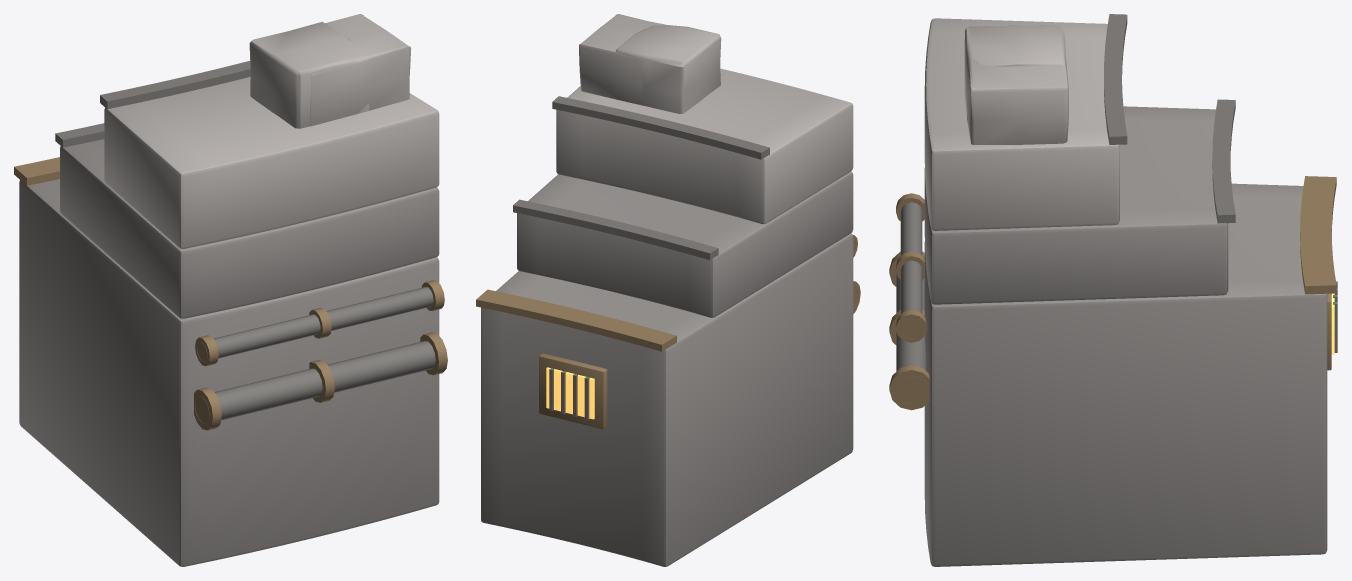
The model's file is SM_Area2_Wall_Hatch.glb.
3 renders of one model, left to right at view 1: azimuth 30°, elevation 25°; view 2: azimuth 150°, elevation 25°; view 3: azimuth 270°, elevation 25°, orthographic. The views are drawn at different scales.
Visible parts, largest first — view 1: SM_Area2_Wall_Hatch; view 2: SM_Area2_Wall_Hatch; view 3: SM_Area2_Wall_Hatch.
Boxes of the visible parts, x1=… form: SM_Area2_Wall_Hatch: x1=14, y1=14, x2=447, y2=566; SM_Area2_Wall_Hatch: x1=476, y1=14, x2=860, y2=566; SM_Area2_Wall_Hatch: x1=889, y1=14, x2=1337, y2=566.
Size of the model in its own units: 3.51 by 5.83 by 4.96.
